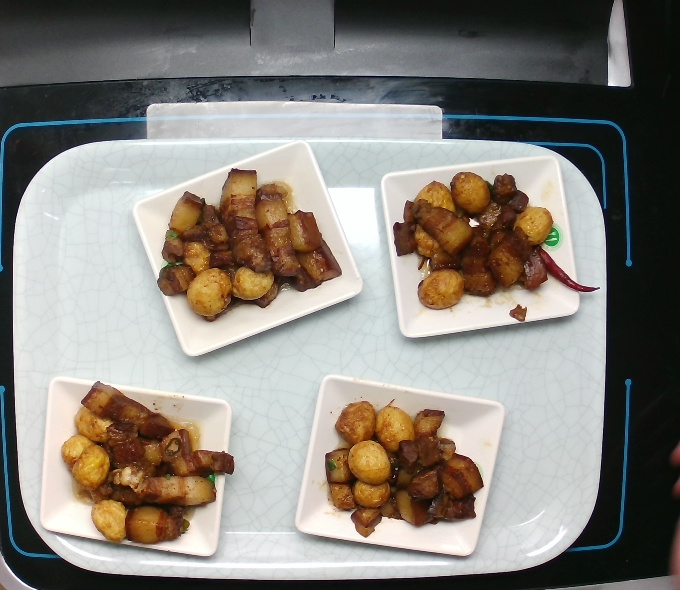wcq-HongShaoRouChaoAnChunDan: (386, 166, 608, 328), (148, 162, 347, 329), (58, 376, 239, 548), (321, 392, 492, 544)
